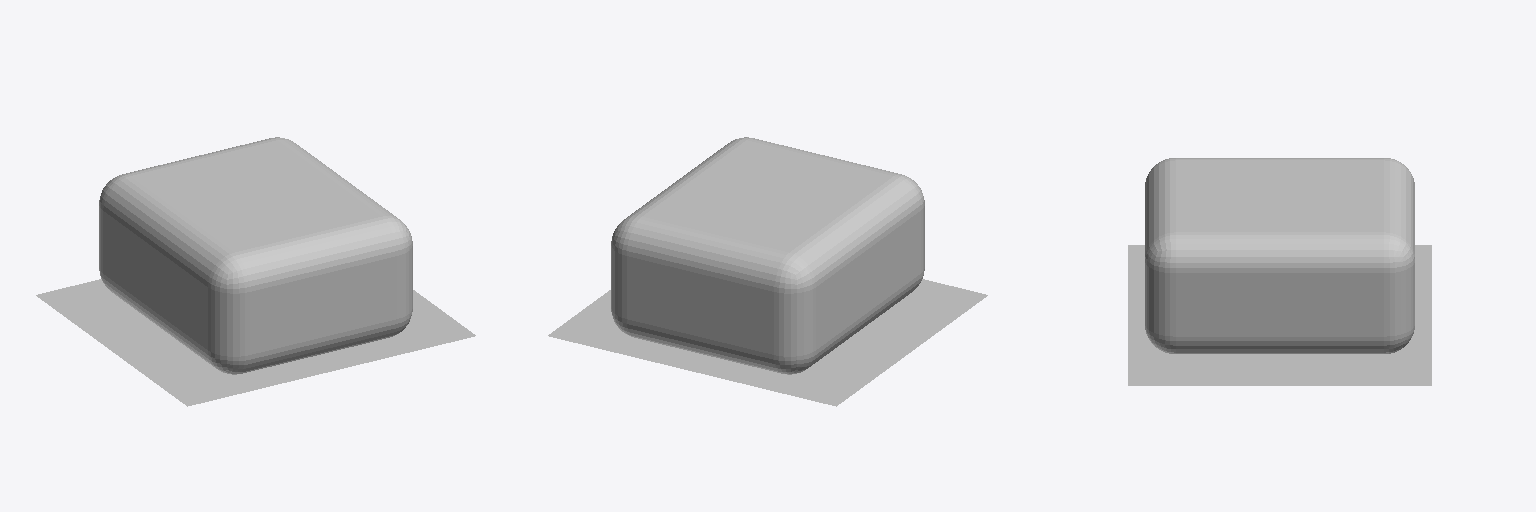
File: Teste Project.obj
3 views of the same model, side by side, from view 1: azimuth 30°, elevation 25°; view 2: azimuth 150°, elevation 25°; view 3: azimuth 270°, elevation 25° (orthographic).
Visible parts, largest first — view 1: 000_Box, 001_Plane; view 2: 000_Box, 001_Plane; view 3: 000_Box, 001_Plane.
Part boxes in pixels (x1,y1,x2,y2): 000_Box: (99,137,412,374); 001_Plane: (36,279,475,406); 000_Box: (611,137,924,374); 001_Plane: (548,279,987,406); 000_Box: (1145,158,1414,353); 001_Plane: (1128,245,1431,385).
Size of the model in its own units: 43.2 by 17 by 39.4.